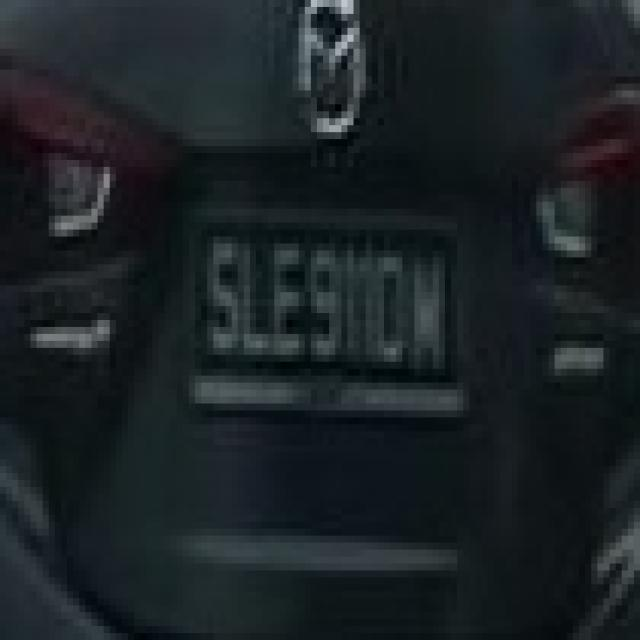0: (375, 245, 411, 370)
1: (343, 245, 360, 366), (362, 245, 378, 369)
9: (310, 245, 341, 360)
E: (273, 241, 304, 360)
L: (242, 240, 269, 359)
M: (412, 248, 444, 372)
S: (207, 236, 240, 358)
